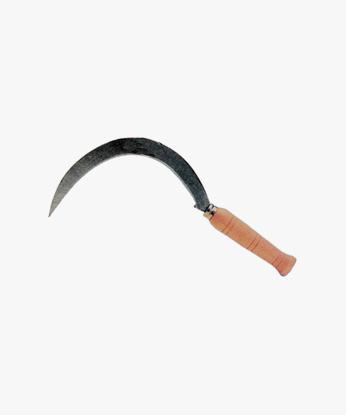foice: (49, 138, 295, 276)
